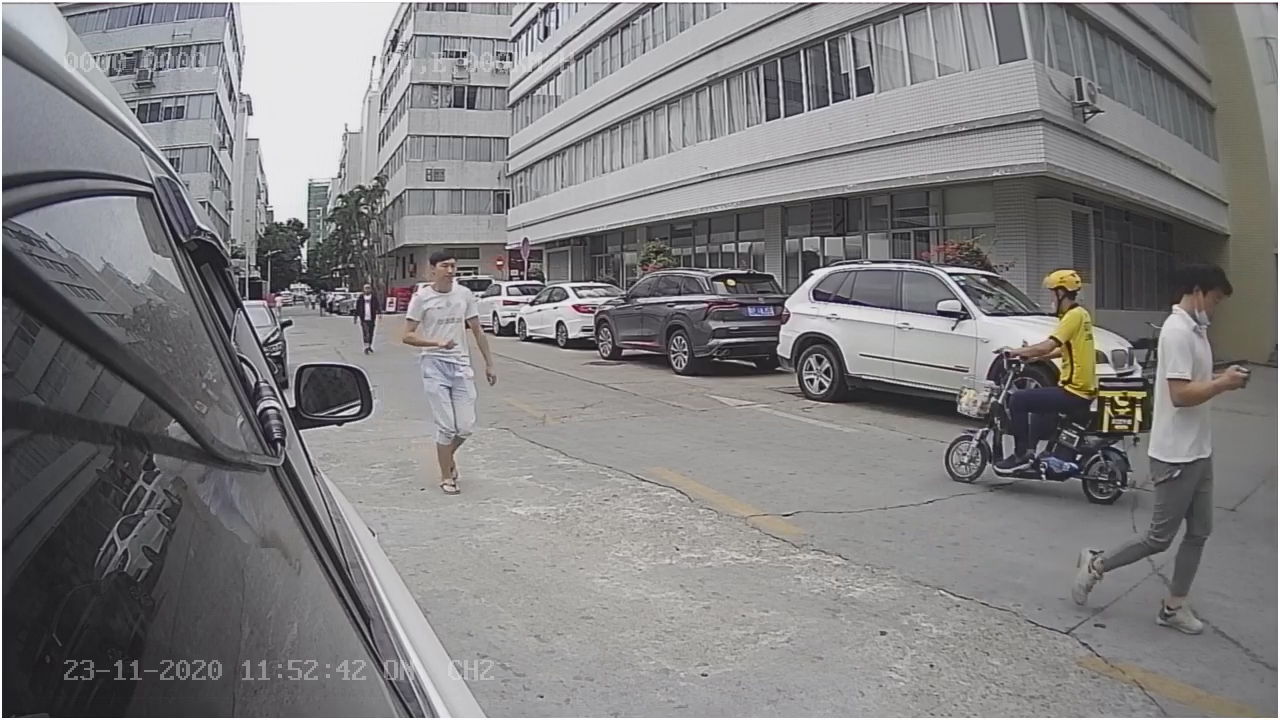person: (402, 252, 494, 488)
